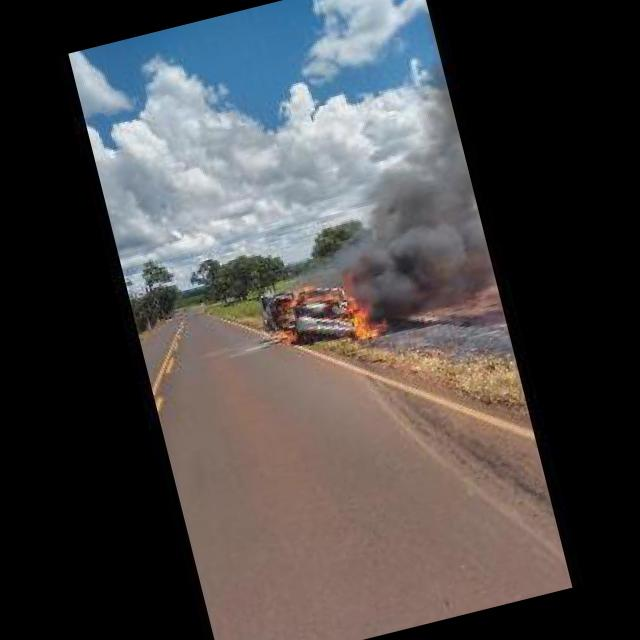Fire: (268, 282, 324, 346), (342, 286, 386, 343)
Smoke: (317, 140, 499, 330)
